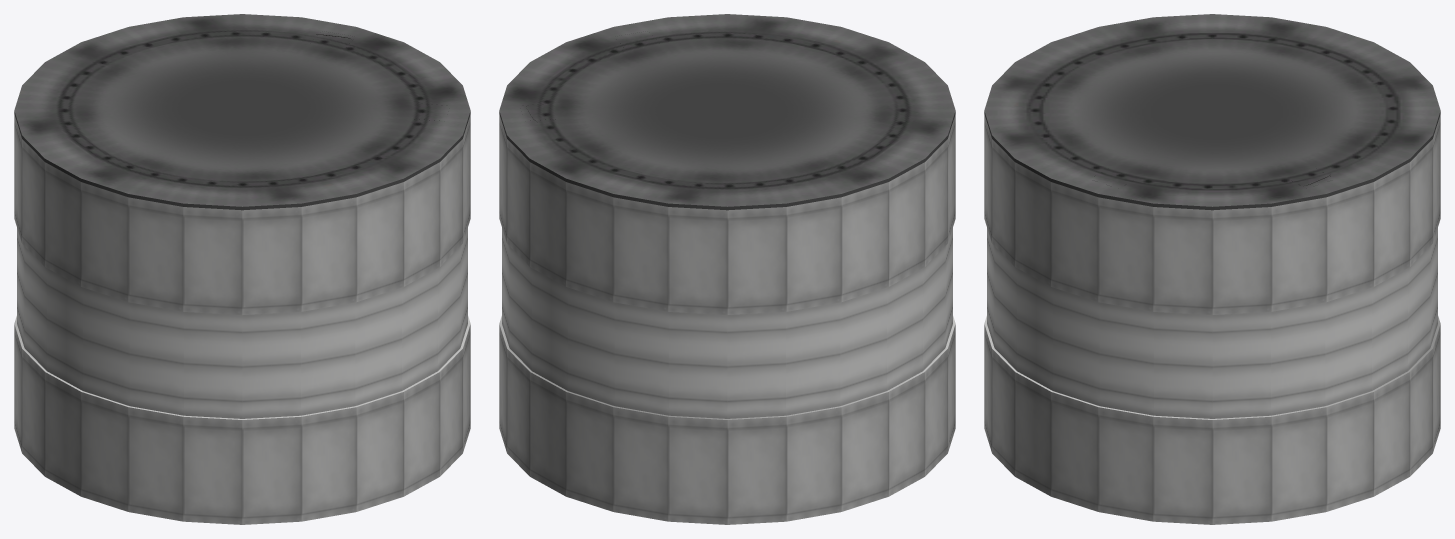
Rendered from Apollo_Block2_ServiceEngine.dae.
The picture shows the model from 3 angles, left to right: view 1: azimuth 30°, elevation 25°; view 2: azimuth 150°, elevation 25°; view 3: azimuth 270°, elevation 25°; orthographic projection.
Parts seen in each view (by area): view 1: fairing, polySurface29, Apollo_ServiceEngine_Merged_Apollo_ServiceEngineMesh_group1; view 2: fairing, polySurface29, Apollo_ServiceEngine_Merged_Apollo_ServiceEngineMesh_group1; view 3: fairing, polySurface29, Apollo_ServiceEngine_Merged_Apollo_ServiceEngineMesh_group1.
Boxes of the visible parts, left/top/right/bottom form: fairing: left=14, top=114, right=470, bottom=524; polySurface29: left=14, top=14, right=470, bottom=206; Apollo_ServiceEngine_Merged_Apollo_ServiceEngineMesh_group1: left=14, top=34, right=470, bottom=210; fairing: left=499, top=114, right=955, bottom=524; polySurface29: left=499, top=14, right=955, bottom=206; Apollo_ServiceEngine_Merged_Apollo_ServiceEngineMesh_group1: left=499, top=43, right=955, bottom=210; fairing: left=984, top=114, right=1440, bottom=524; polySurface29: left=984, top=14, right=1440, bottom=206; Apollo_ServiceEngine_Merged_Apollo_ServiceEngineMesh_group1: left=984, top=111, right=1440, bottom=210.
Size of what is drawn, in the model's own units: 2.5 by 1.93 by 2.5.
